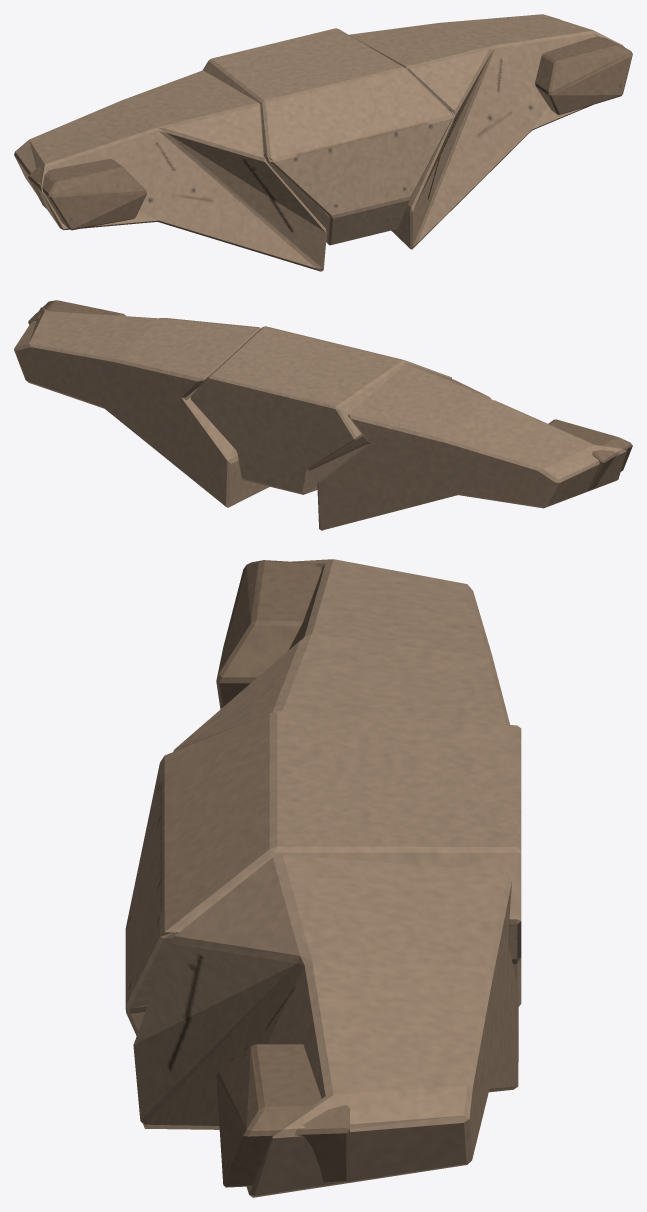
Rendered from shoulder_shell.obj.
The picture shows the model from 3 angles, top to bottom: view 1: azimuth 30°, elevation 25°; view 2: azimuth 150°, elevation 25°; view 3: azimuth 270°, elevation 25°; orthographic projection. The views are drawn at different scales.
Visible parts, largest first — view 1: shoulder_shell; view 2: shoulder_shell; view 3: shoulder_shell.
Part boxes in pixels (x1,y1,x2,y2): shoulder_shell: (14,14,632,271); shoulder_shell: (14,300,632,530); shoulder_shell: (125,559,521,1197).
Size of the model in its own units: 4.77 by 1.19 by 1.4.
1 material, 1 textured.
